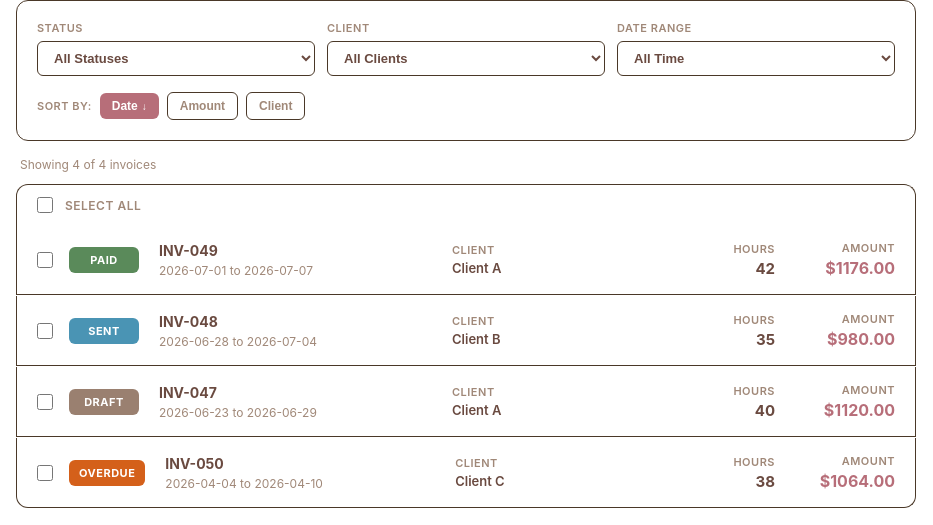
Scenario: ListView › filters by client
Select "Client A" in the dropdown labelled "Client". click: (466, 58)
box: [327, 41, 605, 76]
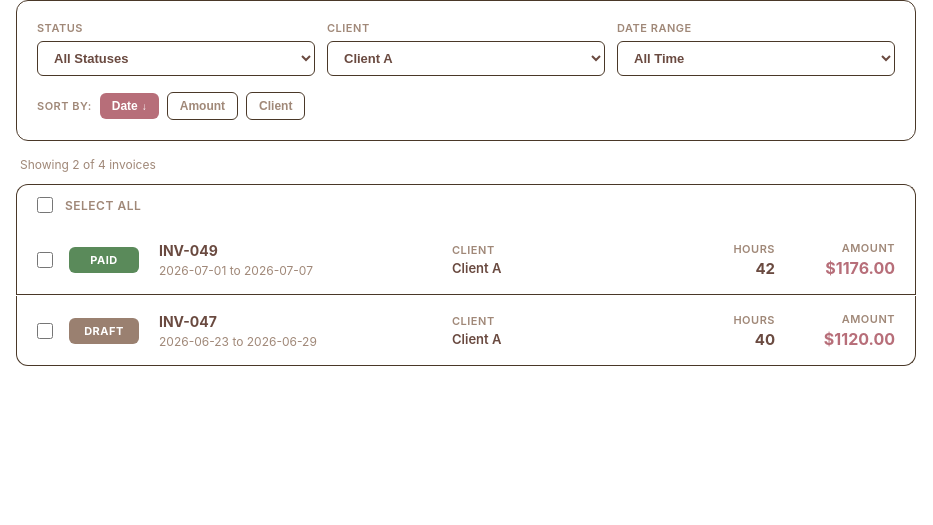
Expected: the text "INV-047" is shown, [159, 312, 217, 330]
Now the text "Showing 2 of 4 invoices" is shown, box [20, 157, 156, 172]
